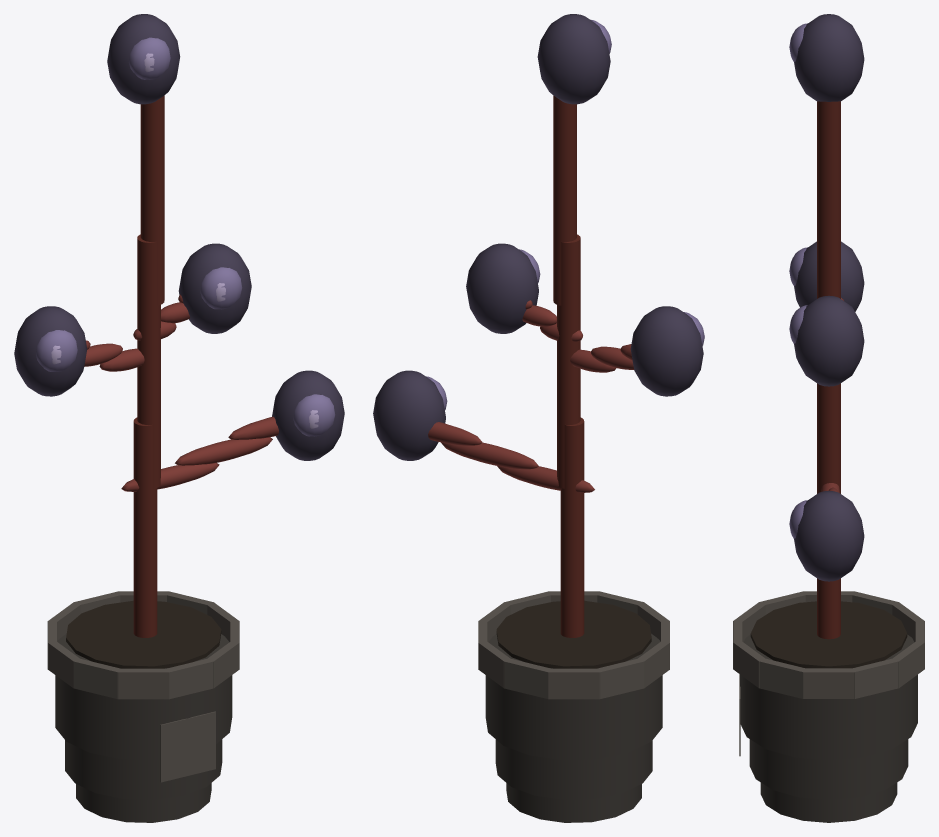
File: CMU3DPottedPlant7.glb
3 renders of one model, left to right at view 1: azimuth 30°, elevation 25°; view 2: azimuth 150°, elevation 25°; view 3: azimuth 270°, elevation 25°, orthographic.
Parts seen in each view (by area): view 1: branch (×8), purple bud shell (×4), upper pot wall, recessed soil, lilac bud interior (×4), lower tapered pot wall, pot front highlight, narrow pot foot, hollow curved planter rim 09, hollow curved planter rim 10, hollow curved planter rim 08, hollow curved planter rim 11 (+1 smaller); view 2: purple bud shell (×4), branch (×8), upper pot wall, recessed soil, lower tapered pot wall, narrow pot foot, hollow curved planter rim 05, hollow curved planter rim 04, hollow curved planter rim 06, hollow curved planter rim 03, hollow curved planter rim 07; view 3: purple bud shell (×4), upper pot wall, branch (×3), recessed soil, lower tapered pot wall, narrow pot foot, hollow curved planter rim 01, hollow curved planter rim 02, hollow curved planter rim 12, hollow curved planter rim 03, hollow curved planter rim 11, hollow curved planter rim 05 (+3 smaller).
Boxes of the visible parts, box(x1,y1,x2,y2) form: branch (×8): box(84, 95, 278, 637); purple bud shell (×4): box(14, 14, 344, 460); upper pot wall: box(55, 634, 232, 760); recessed soil: box(66, 600, 221, 668); lilac bud interior (×4): box(36, 37, 335, 436); lower tapered pot wall: box(65, 739, 222, 799); pot front highlight: box(160, 711, 215, 782); narrow pot foot: box(76, 783, 211, 822); hollow curved planter rim 09: box(117, 668, 169, 699); hollow curved planter rim 10: box(165, 658, 214, 699); hollow curved planter rim 08: box(73, 658, 119, 699); hollow curved planter rim 11: box(208, 640, 239, 688); purple bud shell (×4): box(373, 14, 703, 460); branch (×8): box(428, 95, 634, 637); upper pot wall: box(485, 633, 662, 760); recessed soil: box(496, 600, 651, 668); lower tapered pot wall: box(495, 739, 652, 799); narrow pot foot: box(506, 783, 641, 822); hollow curved planter rim 05: box(548, 668, 600, 699); hollow curved planter rim 04: box(503, 658, 552, 698); hollow curved planter rim 06: box(598, 658, 644, 698); hollow curved planter rim 03: box(478, 640, 509, 688); hollow curved planter rim 07: box(638, 640, 669, 688); purple bud shell (×4): box(794, 14, 864, 581); upper pot wall: box(740, 634, 917, 760); branch (×3): box(817, 101, 840, 639); recessed soil: box(750, 601, 907, 668); lower tapered pot wall: box(749, 739, 908, 799); narrow pot foot: box(760, 782, 897, 822); hollow curved planter rim 01: box(803, 668, 854, 698); hollow curved planter rim 02: box(850, 658, 899, 698); hollow curved planter rim 12: box(758, 658, 807, 698); hollow curved planter rim 03: box(893, 640, 924, 687); hollow curved planter rim 11: box(733, 640, 764, 687); hollow curved planter rim 05: box(892, 602, 924, 642).
Bounding box in the file's own units: 0.45 × 1.04 × 0.2323.
